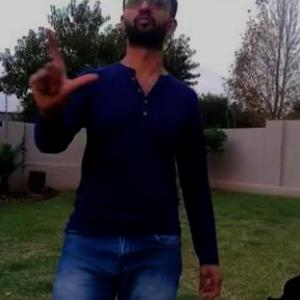land_hand: (23, 18, 100, 114)
